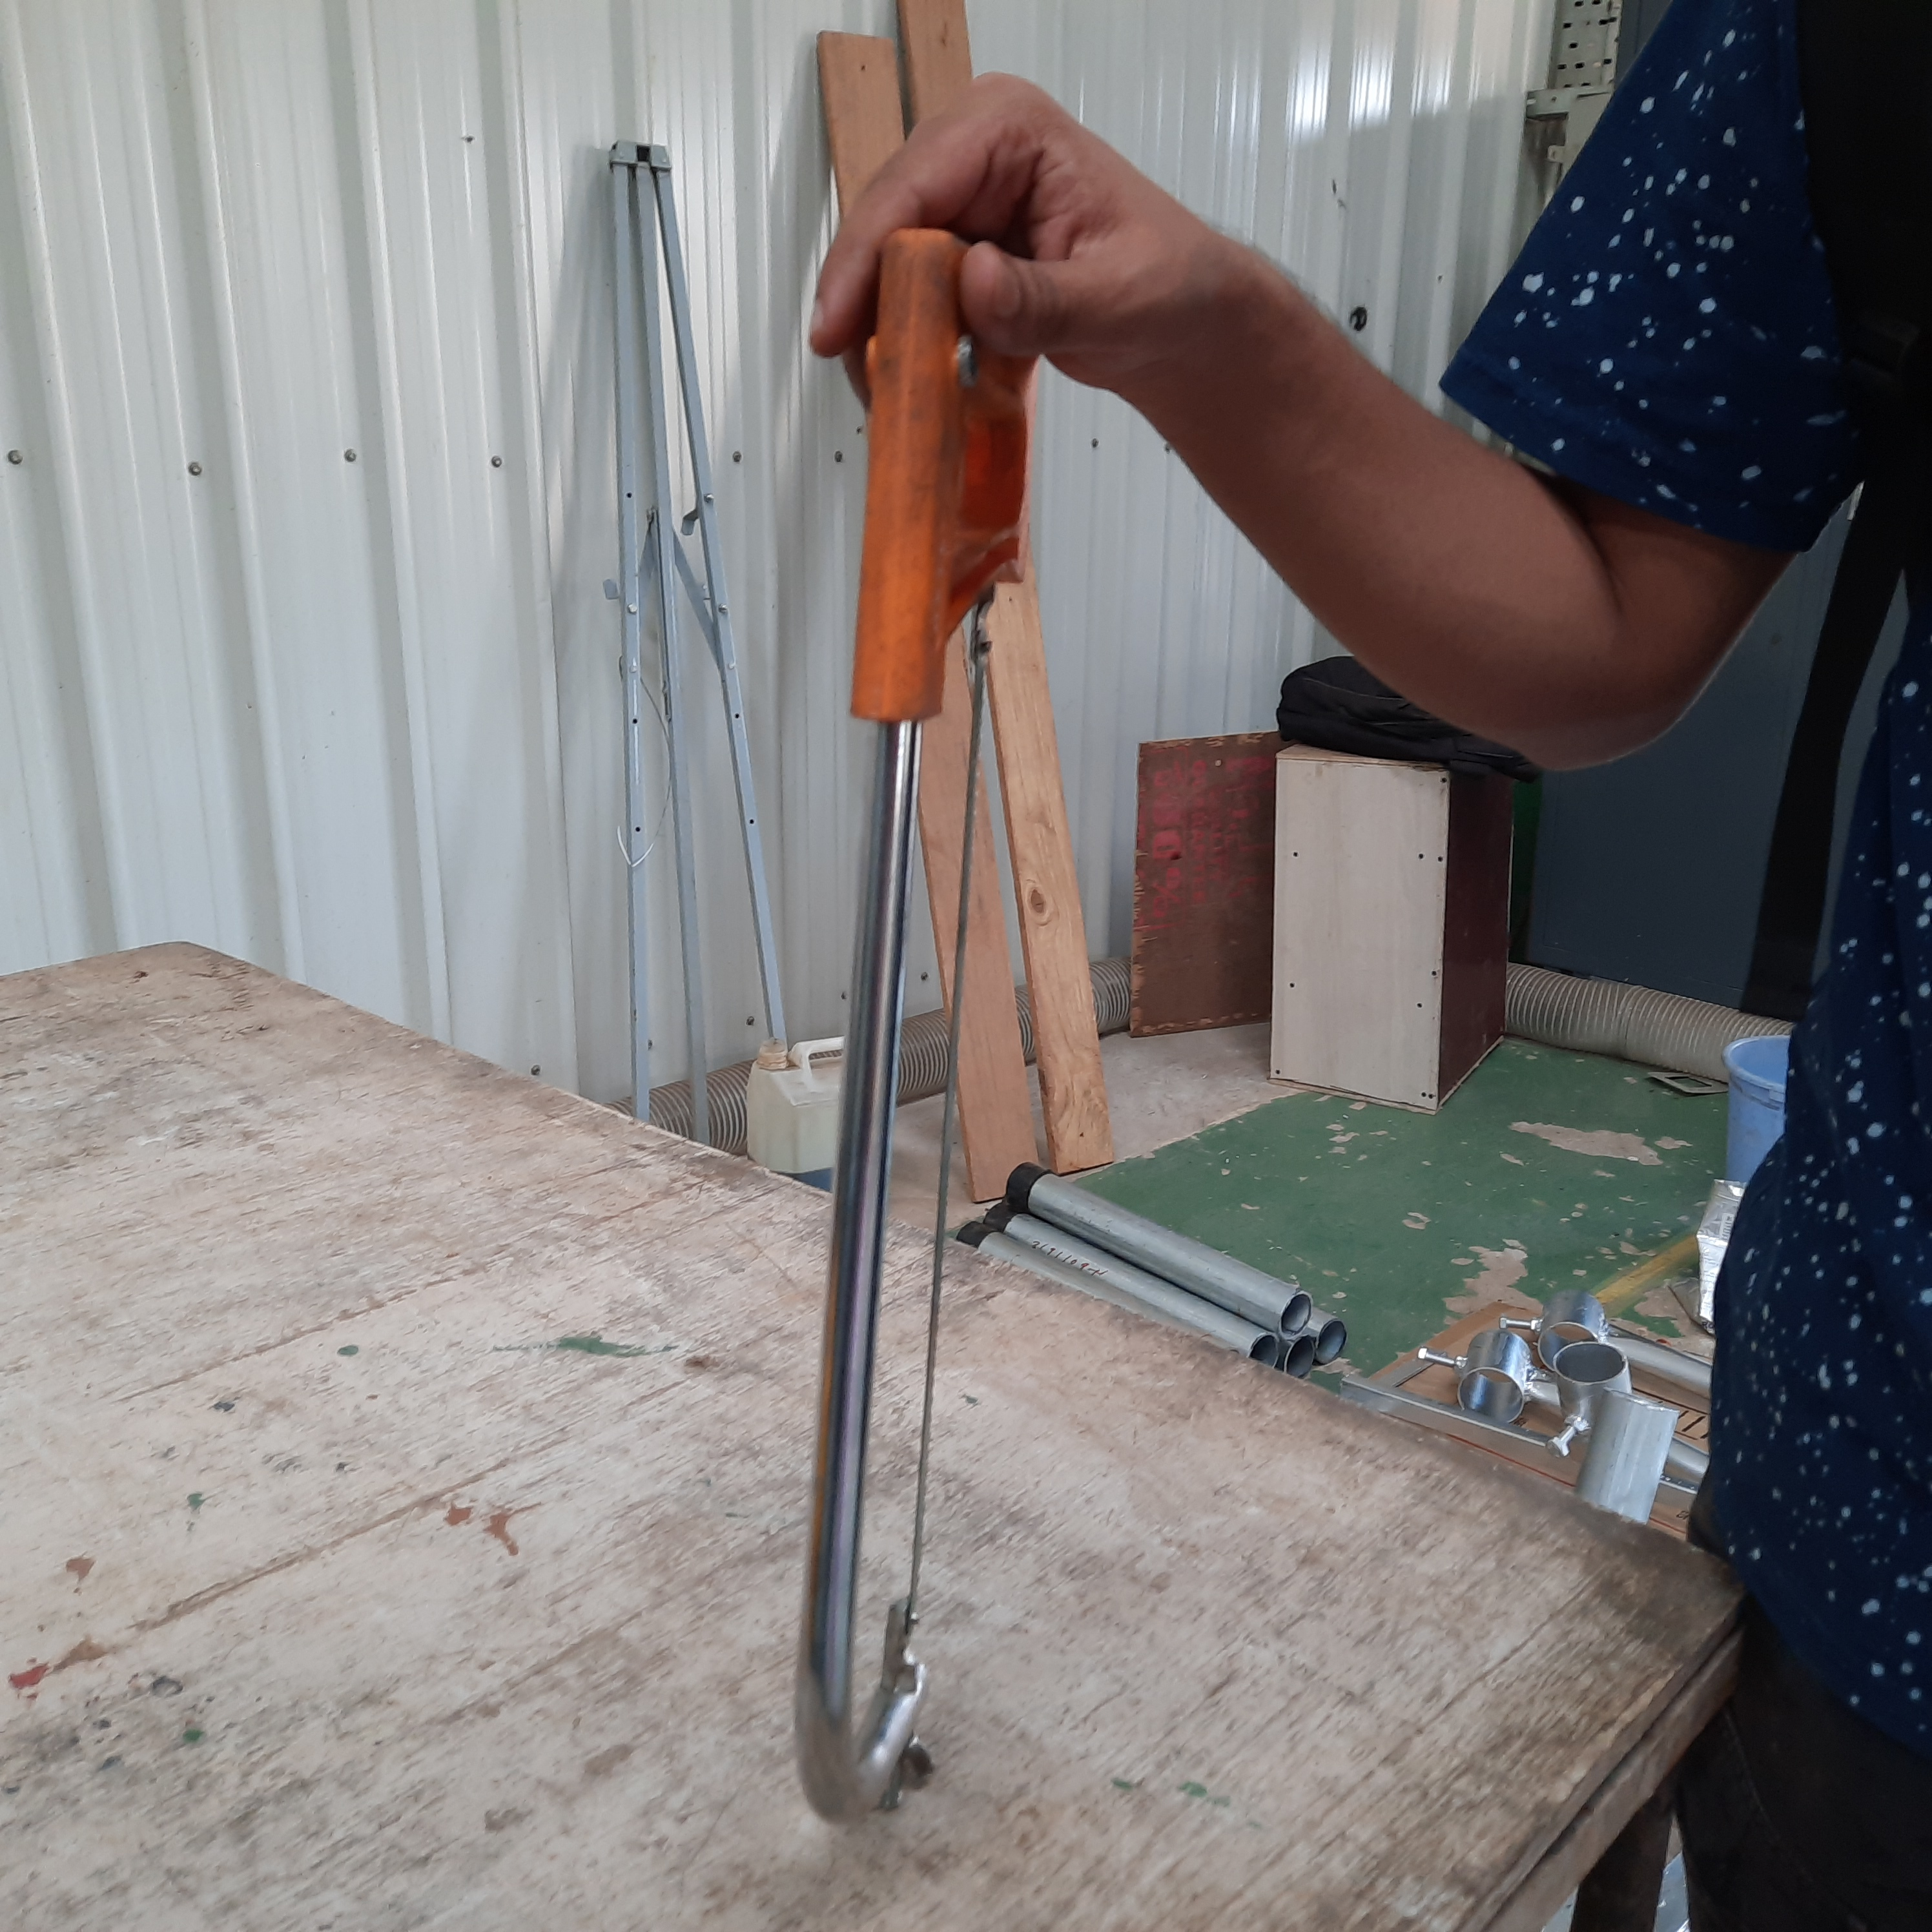Hexaframe: (729, 207, 1123, 1861)
